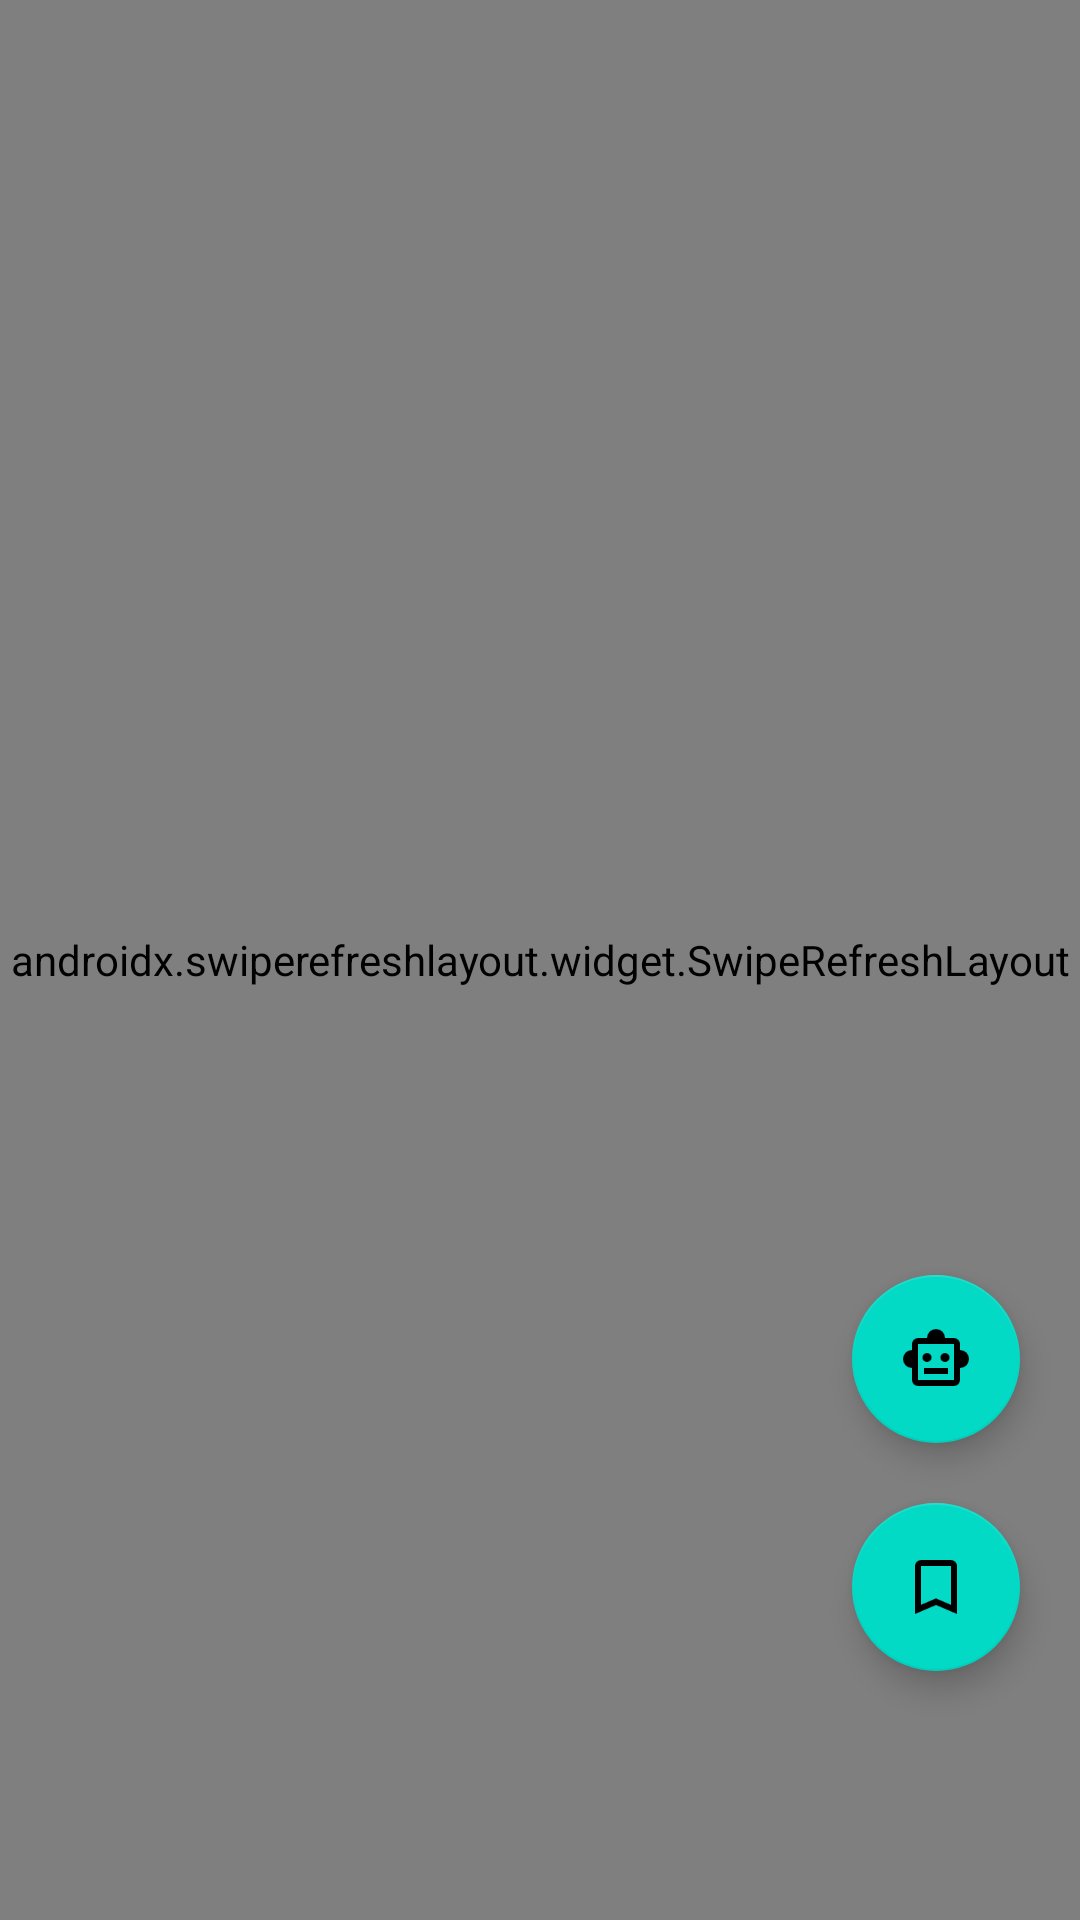

Icons on this 1080x1920 Android screen, each with its box as BBox(x1, y1, x2, y2):
bookmark: BBox(852, 1503, 1020, 1671)
